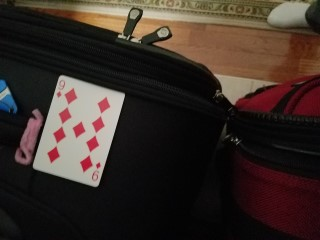NineOfDiamonds: (32, 72, 126, 187)
